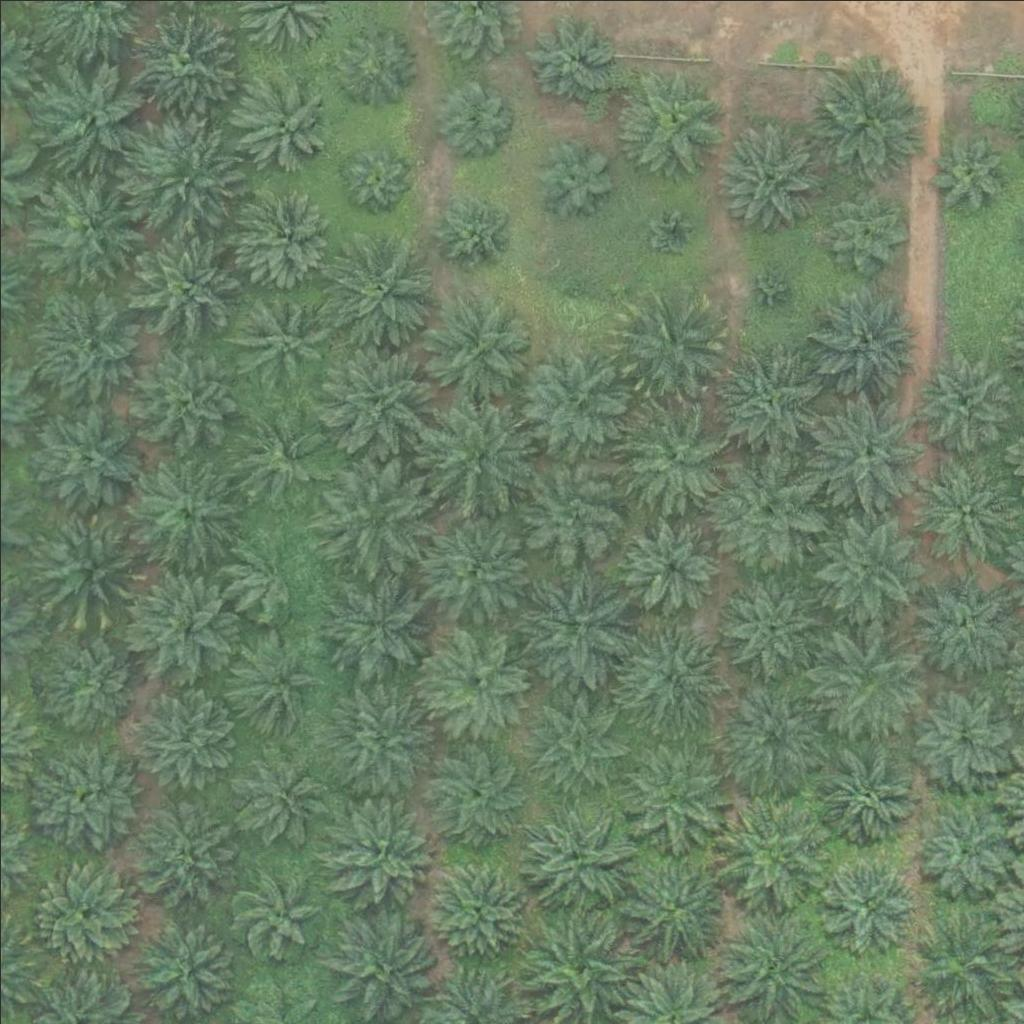Kelapa_Sawit: (615, 736, 728, 850), (323, 241, 436, 355), (420, 510, 533, 624), (423, 400, 536, 514), (522, 681, 635, 795), (520, 571, 633, 685), (612, 616, 725, 730), (616, 850, 729, 963), (323, 790, 436, 903), (125, 682, 238, 795), (28, 402, 141, 515), (32, 292, 145, 405), (123, 568, 236, 681), (132, 455, 245, 568), (126, 338, 239, 451), (418, 291, 531, 404), (516, 451, 629, 564), (808, 507, 921, 620), (808, 394, 921, 507), (805, 279, 918, 392), (910, 458, 1023, 571), (805, 66, 918, 179), (124, 120, 237, 233), (123, 3, 236, 116), (27, 172, 140, 285), (30, 58, 143, 171), (713, 787, 825, 901), (127, 226, 239, 340), (320, 460, 432, 574), (318, 343, 430, 457), (614, 65, 726, 179), (615, 290, 727, 403), (906, 905, 1018, 1018), (717, 679, 829, 792), (527, 910, 639, 1023), (519, 796, 631, 909), (420, 739, 532, 852), (321, 682, 433, 795), (22, 738, 134, 851), (31, 622, 143, 735), (32, 507, 144, 620), (322, 567, 434, 680), (422, 624, 534, 737), (512, 344, 624, 457), (617, 400, 729, 513), (717, 454, 829, 567), (713, 347, 825, 460), (814, 625, 926, 738), (713, 116, 825, 229), (914, 800, 1014, 901), (912, 681, 1012, 782), (812, 739, 912, 840), (427, 860, 527, 961), (129, 799, 229, 900), (31, 863, 131, 964), (224, 633, 324, 734), (620, 515, 720, 616), (718, 574, 818, 675), (912, 577, 1012, 678), (911, 350, 1011, 451), (236, 182, 336, 283), (230, 70, 330, 171), (817, 853, 917, 953), (232, 407, 332, 507), (228, 288, 328, 388), (227, 529, 315, 617), (521, 18, 609, 106), (234, 869, 321, 957), (233, 753, 320, 841), (819, 183, 906, 271), (528, 133, 615, 221), (429, 183, 516, 271), (432, 74, 519, 162), (330, 19, 417, 107), (932, 135, 1007, 210), (339, 140, 414, 215), (741, 262, 791, 313), (647, 206, 697, 257), (550, 270, 600, 320)
